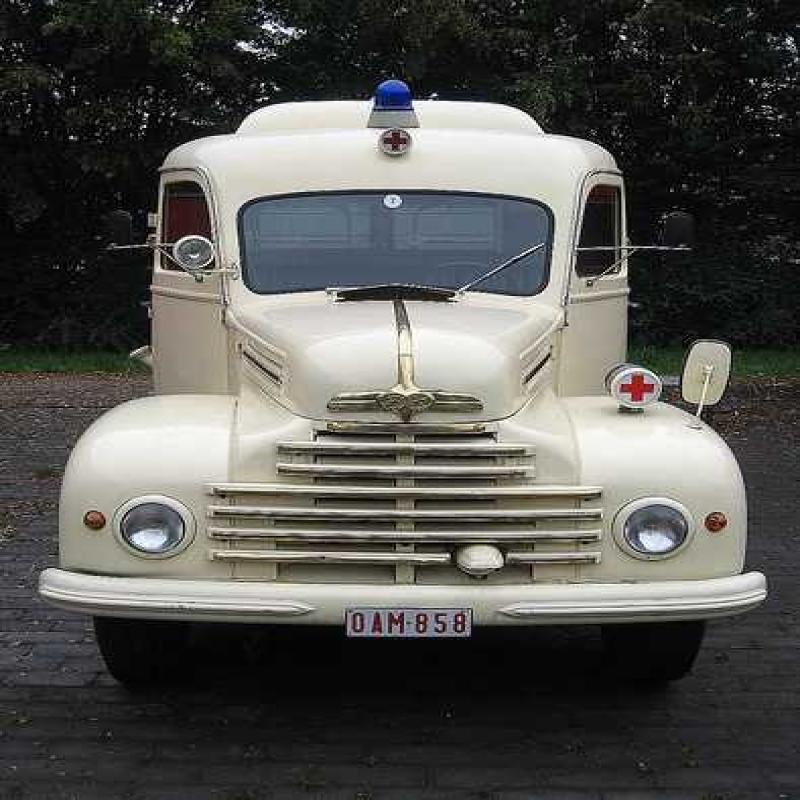AmbulanceSiren: (364, 71, 430, 137)
